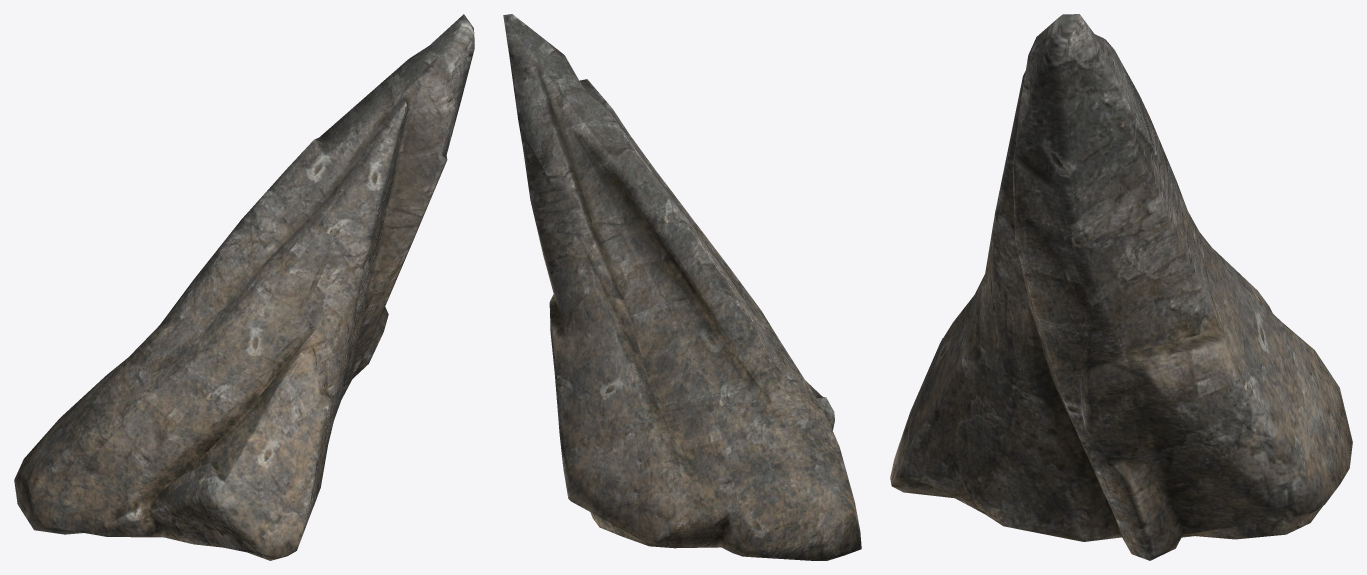
Rendered from Mountains_v1_p1_2.gltf.
The picture shows the model from 3 angles, left to right: view 1: azimuth 30°, elevation 25°; view 2: azimuth 150°, elevation 25°; view 3: azimuth 270°, elevation 25°; orthographic projection. The views are drawn at different scales.
Visible parts, largest first — view 1: Mountains_v1_p1_2(Clone); view 2: Mountains_v1_p1_2(Clone); view 3: Mountains_v1_p1_2(Clone).
Part boxes in pixels (bbox=[...]): Mountains_v1_p1_2(Clone): bbox=[14, 14, 474, 560]; Mountains_v1_p1_2(Clone): bbox=[503, 14, 861, 560]; Mountains_v1_p1_2(Clone): bbox=[890, 14, 1352, 560].
Size of the model in its own units: 32.78 by 34.01 by 22.
Materials: 1 (1 with a texture image).
